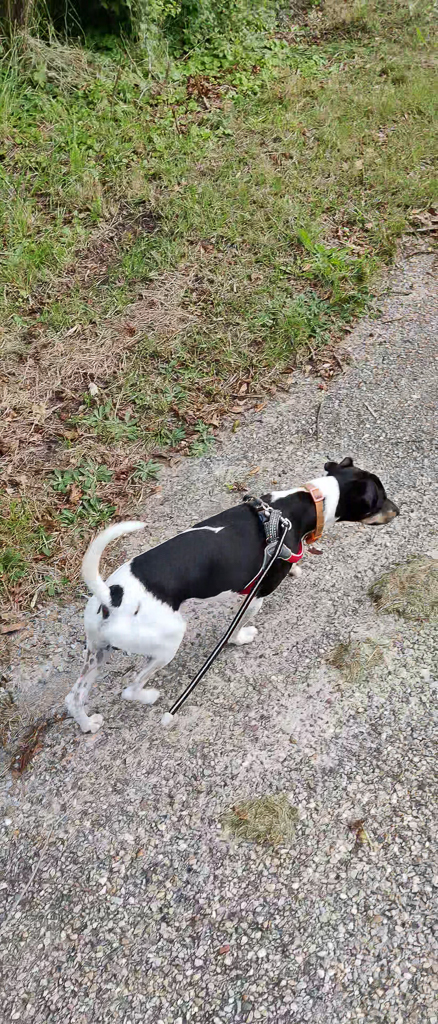Dog: (48, 443, 408, 751)
